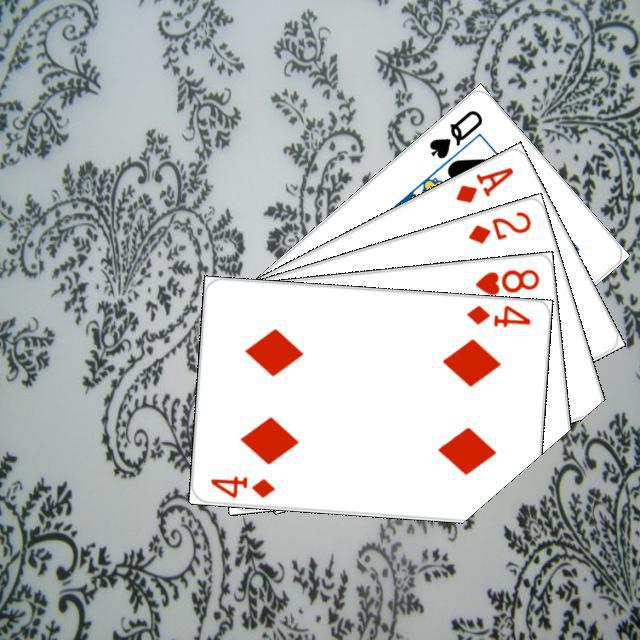2d: (463, 206, 533, 246)
4d: (205, 470, 277, 500), (461, 300, 532, 329)
8h: (470, 264, 541, 297)
Ad: (450, 161, 516, 205)
Qs: (424, 105, 485, 161)
